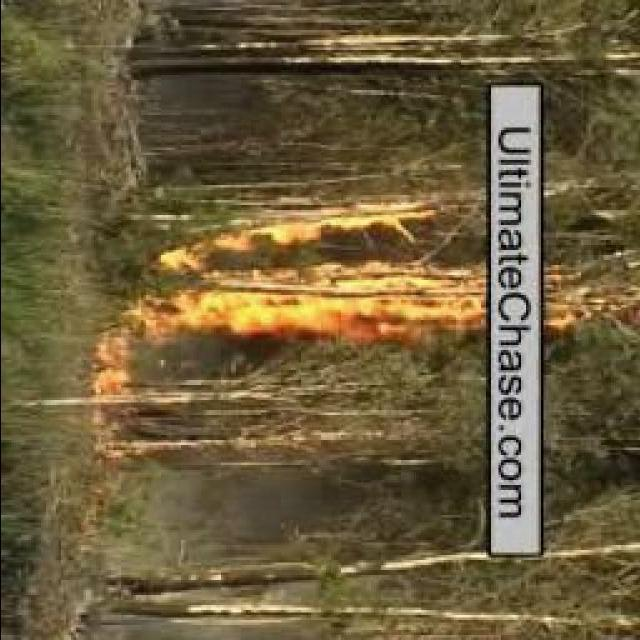Fire: (132, 199, 484, 350), (548, 269, 630, 333), (90, 328, 130, 402)
